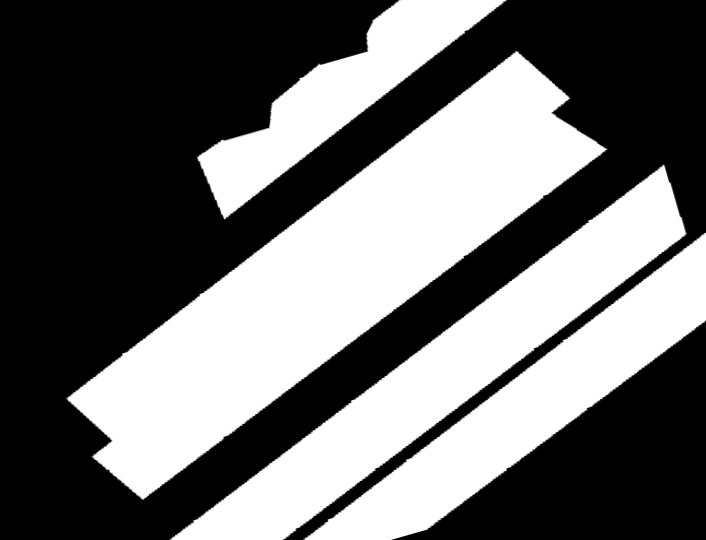parkingspot: (67, 51, 607, 500), (170, 165, 686, 540), (304, 233, 706, 540), (197, 0, 506, 219)
